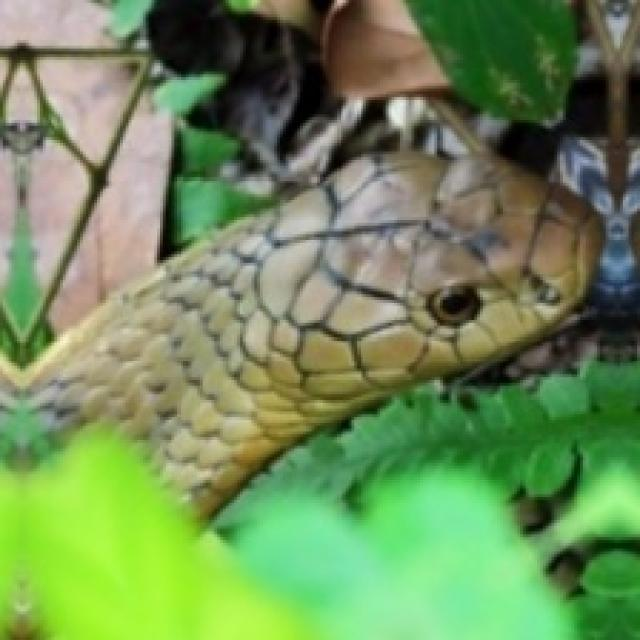king cobra: (0, 134, 600, 511)
